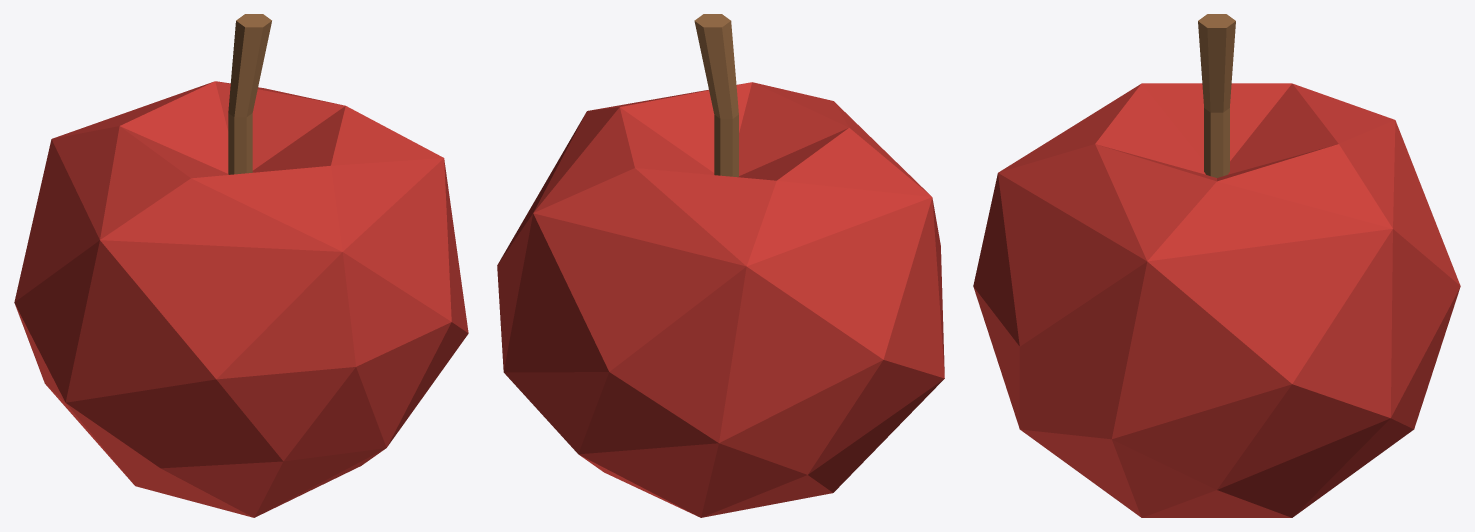
The model's file is Apple_02.fbx.
3 views of the same model, side by side, from view 1: azimuth 30°, elevation 25°; view 2: azimuth 150°, elevation 25°; view 3: azimuth 270°, elevation 25° (orthographic). The views are drawn at different scales.
Visible parts, largest first — view 1: Apple_02; view 2: Apple_02; view 3: Apple_02.
Boxes of the visible parts, <box> form: Apple_02: <box>14,14,468,517</box>; Apple_02: <box>497,14,944,517</box>; Apple_02: <box>973,14,1460,517</box>.
Bounding box in the file's own units: 11.2 × 12.96 × 11.64.
